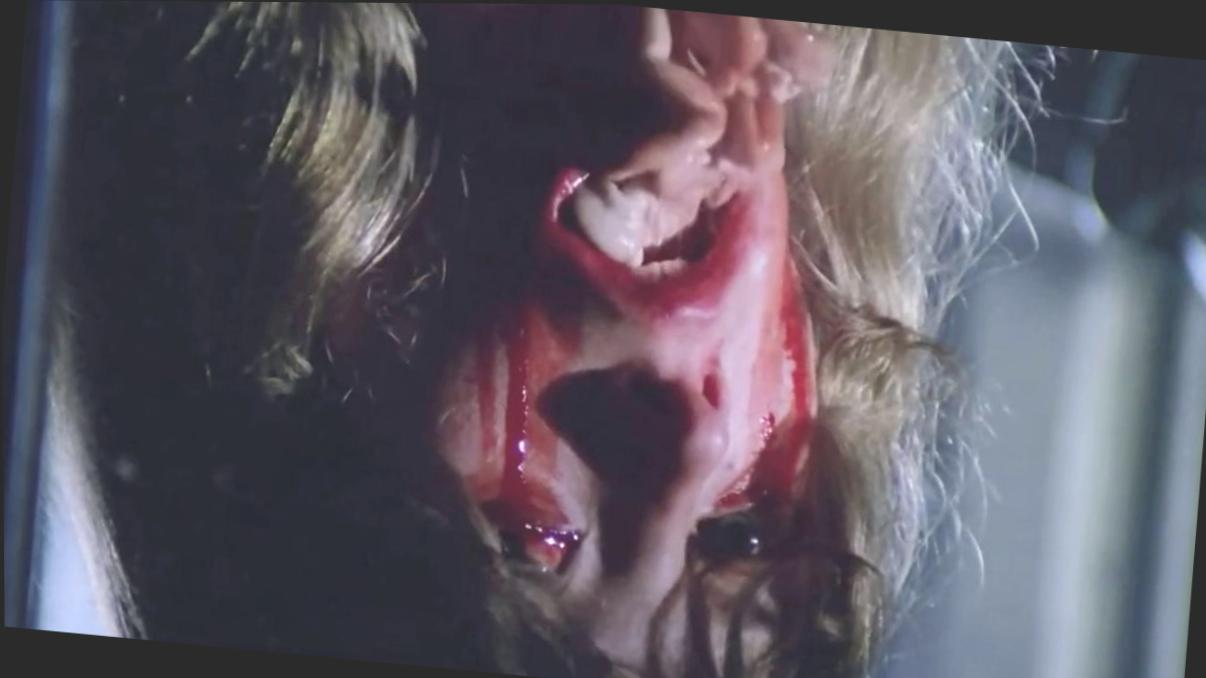Fire: (433, 94, 817, 648)
